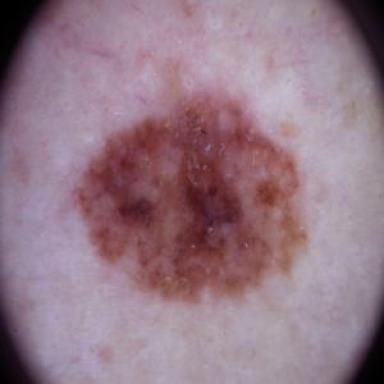Melanoma: (77, 91, 305, 302)
